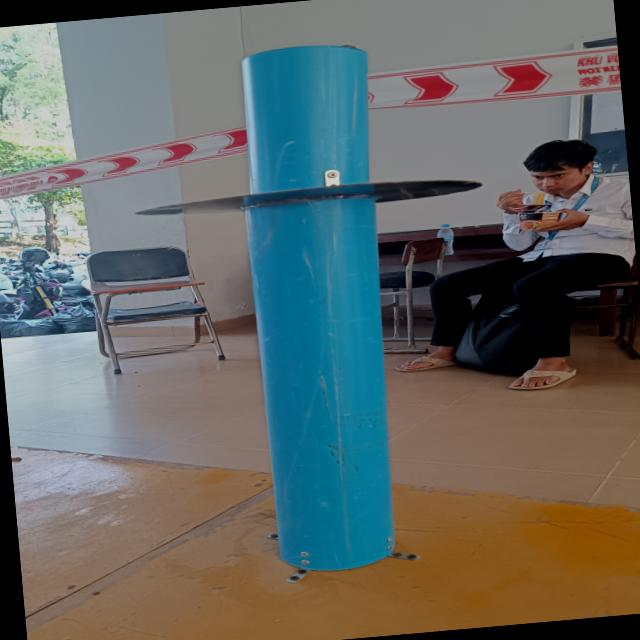pole: (102, 22, 504, 360)
